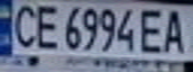4: (115, 5, 139, 53)
6: (57, 2, 84, 52)
9: (96, 4, 121, 52), (78, 3, 100, 52)
A: (157, 6, 193, 55)
C: (6, 0, 42, 50)
E: (30, 1, 63, 51), (136, 6, 169, 54)
